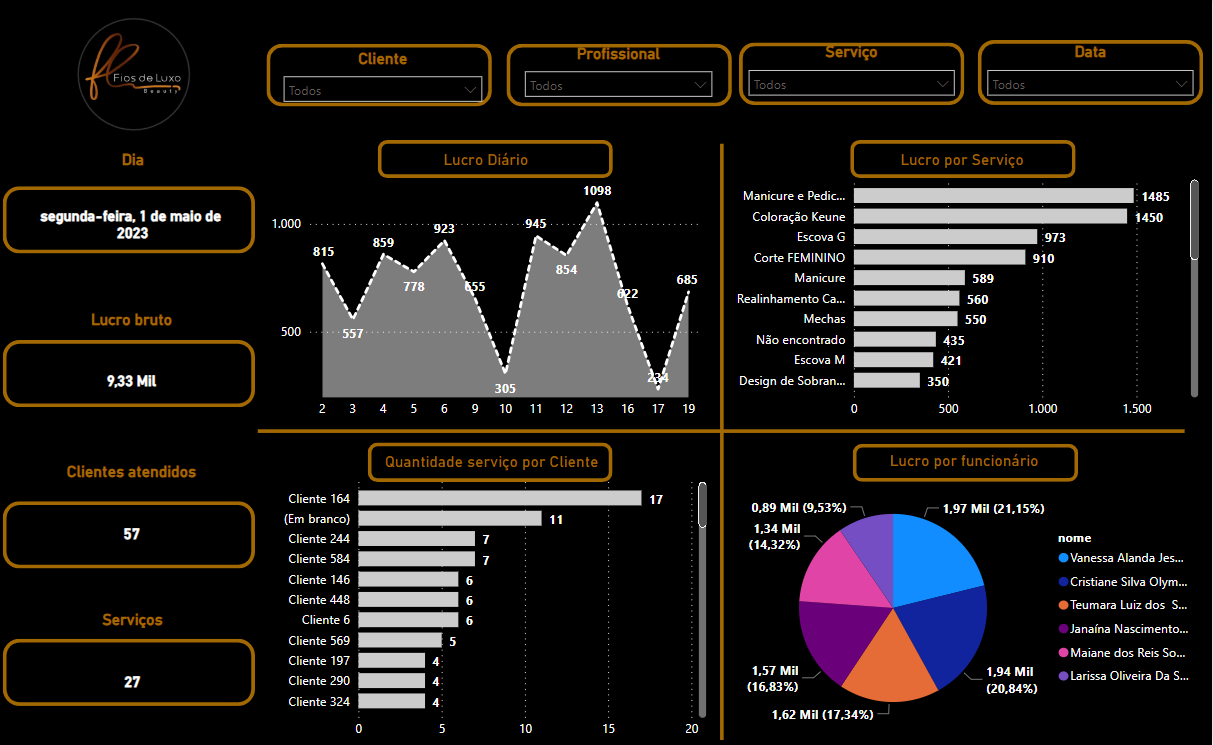

Layout of this report page (visuals, bound fields, positions):
{"tool":"powerbi","page":{"name":"Overview","canvas":[1300,800],"ordinal":0},"visuals":[{"type":"shape","box":[1049.2,42.9,241.2,69.7],"z":0},{"type":"shape","box":[793.3,45.6,241.2,67],"z":1000},{"type":"shape","box":[544.1,46.9,241.2,67],"z":2000},{"type":"shape","box":[286.8,46.9,241.2,67],"z":3000},{"type":"slicer","title":"Serviço","fields":{"Values":["d_servico.nome"]},"box":[793.3,45.6,241.2,64.3],"z":4000},{"type":"slicer","title":"Cliente","fields":{"Values":["d_cliente.nome"]},"box":[294.8,52.3,233.2,61.6],"z":5000},{"type":"slicer","title":"Profissional","fields":{"Values":["d_funcionario.nome"]},"box":[553.4,46.9,221.1,64.3],"z":6000},{"type":"pieChart","title":"Lucro por funcionário","fields":{"Category":["d_funcionario.nome"],"Y":["Sum(fato_pagamento.valor_pago)"]},"box":[777.8,483.3,515,317.1],"z":7000},{"type":"card","title":"Lucro bruto","fields":{"Values":["Sum(fato_pagamento.valor_pago)"]},"box":[17.4,332.3,249.2,135.3],"z":8000},{"type":"slicer","title":"Data","fields":{"Values":["d_agenda.data"]},"box":[1049.2,45.6,241.2,64.3],"z":9000},{"type":"clusteredBarChart","title":"Lucro por Serviço","fields":{"Category":["d_servico.nome"],"Y":["Sum(fato_pagamento.valor_pago)"]},"box":[774.5,160.8,515.9,296.1],"z":10000},{"type":"card","title":"Dia","fields":{"Values":["Min(d_agenda.data)"]},"box":[18.8,160.8,249.2,142],"z":11000},{"type":"card","title":"Clientes atendidos","fields":{"Values":["Count(fato_pagamento.id_cliente)"]},"box":[17.4,495.8,249.2,135.3],"z":12000},{"type":"card","title":"Serviços ","fields":{"Values":["Count(fato_pagamento.id_servico)"]},"box":[19,653.3,248.6,135.8],"z":13000},{"type":"areaChart","title":"Lucro Diário","fields":{"Category":["d_agenda.data.Variation.Hierarquia de datas.Dia"],"Y":["Sum(fato_pagamento.valor_pago)"]},"box":[286.8,160.8,470.4,296.1],"z":14000},{"type":"barChart","title":"Quantidade serviço por Cliente","fields":{"Category":["d_cliente.nome"],"Y":["CountNonNull(fato_pagamento.id_cliente)"]},"box":[293,484.8,469.7,315.6],"z":15000},{"type":"image","box":[33.5,0,219.8,160.8],"z":16000},{"type":"shape","box":[4,199.7,270.7,72.4],"z":17000},{"type":"shape","box":[4,364.5,270.7,72.4],"z":18000},{"type":"shape","box":[4,684.8,270.7,72.4],"z":19000},{"type":"shape","box":[4,537.4,270.7,72.4],"z":20000},{"type":"shape","box":[277.9,457.6,993.7,10.6],"z":21000},{"type":"shape","box":[770.2,154,9.1,638.8],"z":22000},{"type":"shape","box":[912.2,149.5,241.6,40.8],"z":23000},{"type":"shape","box":[915.2,475.7,241.6,40.8],"z":24000},{"type":"shape","box":[406.3,149.5,252.2,40.8],"z":25000},{"type":"shape","box":[395.7,474.2,262.8,42.3],"z":26000}]}

Visuals, with their boxes in screenshot pixels (x1, y1, x2, y2), scaled from the page's 1300x800 canvas onto the 1213x745 screenshot:
shape: {"left": 979, "top": 40, "right": 1204, "bottom": 105}
shape: {"left": 740, "top": 42, "right": 965, "bottom": 105}
shape: {"left": 508, "top": 44, "right": 733, "bottom": 106}
shape: {"left": 268, "top": 44, "right": 493, "bottom": 106}
"Serviço" slicer: {"left": 740, "top": 42, "right": 965, "bottom": 102}
"Cliente" slicer: {"left": 275, "top": 49, "right": 493, "bottom": 106}
"Profissional" slicer: {"left": 516, "top": 44, "right": 723, "bottom": 104}
"Lucro por funcionário" pieChart: {"left": 726, "top": 450, "right": 1206, "bottom": 744}
"Lucro bruto" card: {"left": 16, "top": 309, "right": 249, "bottom": 435}
"Data" slicer: {"left": 979, "top": 42, "right": 1204, "bottom": 102}
"Lucro por Serviço" clusteredBarChart: {"left": 723, "top": 150, "right": 1204, "bottom": 425}
"Dia" card: {"left": 18, "top": 150, "right": 250, "bottom": 282}
"Clientes atendidos" card: {"left": 16, "top": 462, "right": 249, "bottom": 588}
"Serviços " card: {"left": 18, "top": 608, "right": 250, "bottom": 735}
"Lucro Diário" areaChart: {"left": 268, "top": 150, "right": 707, "bottom": 425}
"Quantidade serviço por Cliente" barChart: {"left": 273, "top": 451, "right": 712, "bottom": 744}
image: {"left": 31, "top": 0, "right": 236, "bottom": 150}
shape: {"left": 4, "top": 186, "right": 256, "bottom": 253}
shape: {"left": 4, "top": 339, "right": 256, "bottom": 407}
shape: {"left": 4, "top": 638, "right": 256, "bottom": 705}
shape: {"left": 4, "top": 500, "right": 256, "bottom": 568}
shape: {"left": 259, "top": 426, "right": 1187, "bottom": 436}
shape: {"left": 719, "top": 143, "right": 727, "bottom": 738}
shape: {"left": 851, "top": 139, "right": 1077, "bottom": 177}
shape: {"left": 854, "top": 443, "right": 1079, "bottom": 481}
shape: {"left": 379, "top": 139, "right": 614, "bottom": 177}
shape: {"left": 369, "top": 442, "right": 614, "bottom": 481}
